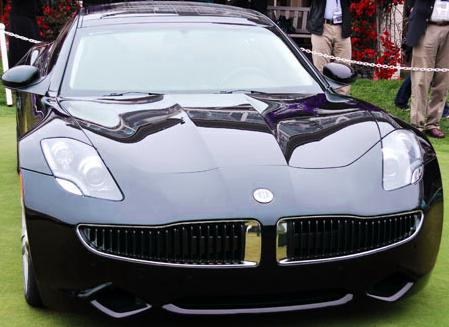front_view: (36, 109, 437, 313)
headlight: (31, 125, 141, 212)
